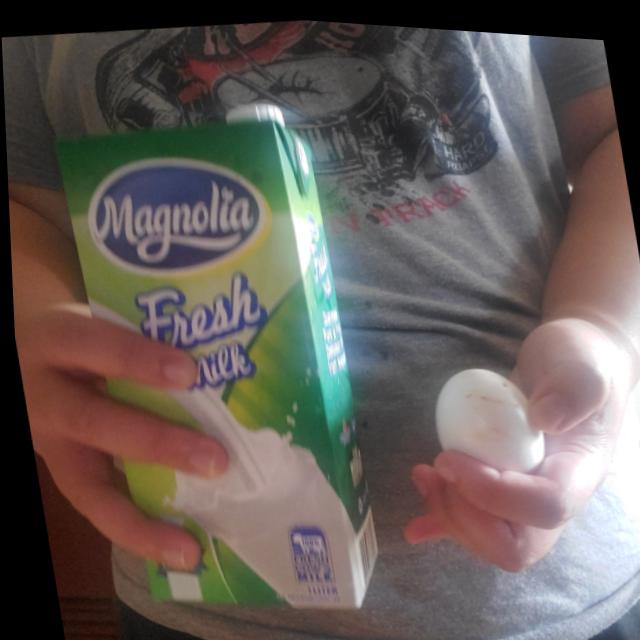egg: (422, 353, 548, 481)
milk: (48, 83, 384, 634)
